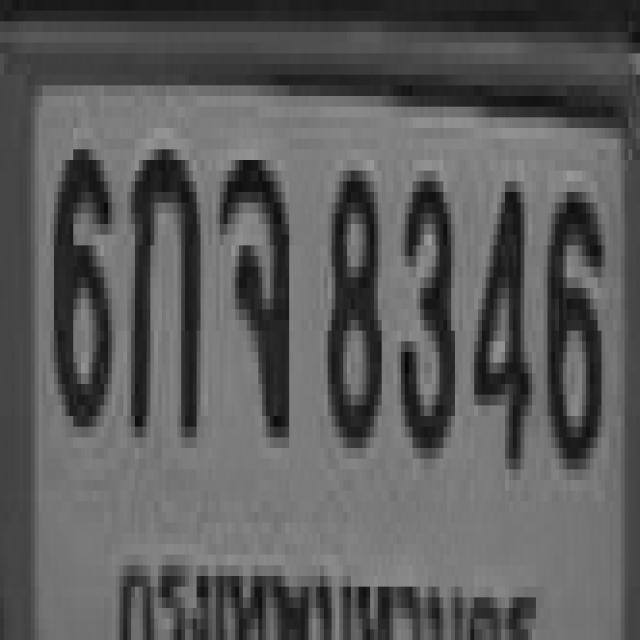10GorGai: (127, 138, 197, 426)
17ChorChan: (216, 149, 285, 427)
3: (397, 160, 451, 448)
4: (471, 170, 528, 458)
6: (50, 139, 108, 416), (544, 181, 598, 459)
8: (324, 160, 378, 437)
